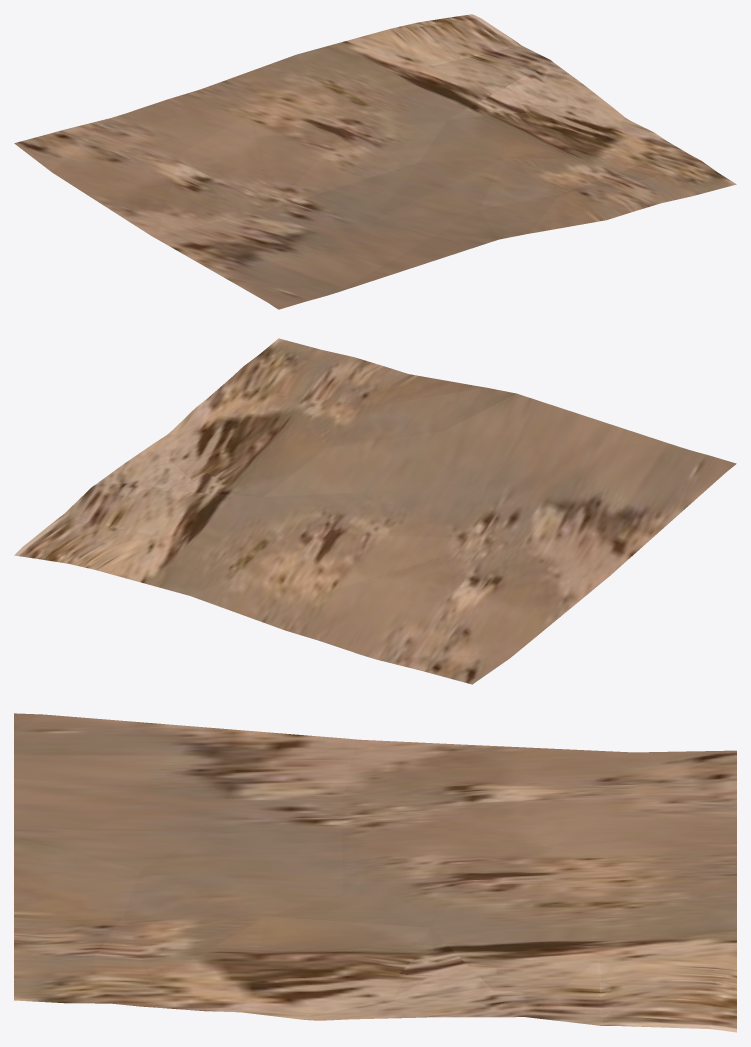
The picture shows the model from 3 angles, top to bottom: view 1: azimuth 30°, elevation 25°; view 2: azimuth 150°, elevation 25°; view 3: azimuth 270°, elevation 25°; orthographic projection. The views are drawn at different scales.
Size of the model in its own units: 1.04 by 0.0979 by 1.04.
Materials: 2 (2 with a texture image).
